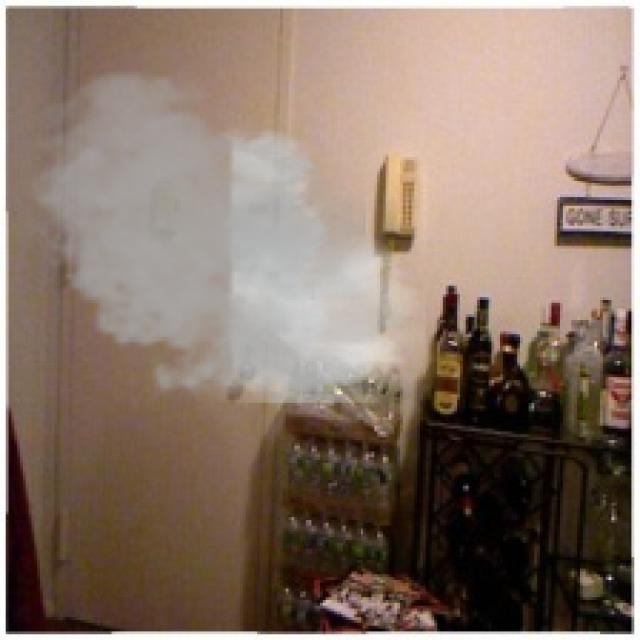smoke: (14, 63, 426, 417)
